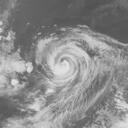cyclone: (37, 28, 96, 86)
